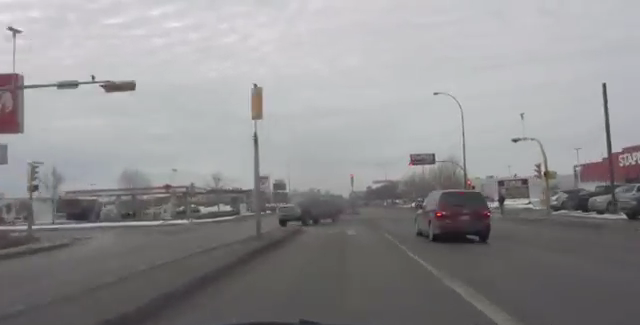bus: (277, 189, 346, 226)
car: (414, 186, 492, 244), (587, 182, 640, 216), (578, 183, 633, 214), (549, 187, 597, 210)
